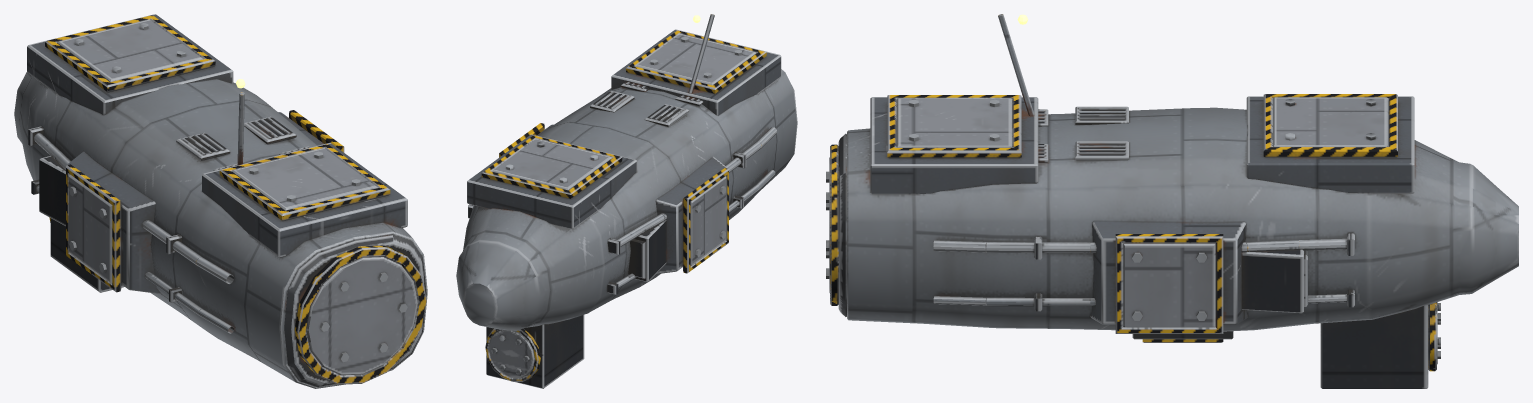
File: casco_explorador_t1.fbx
3 renders of one model, left to right at view 1: azimuth 30°, elevation 25°; view 2: azimuth 150°, elevation 25°; view 3: azimuth 270°, elevation 25°, orthographic. The views are drawn at different scales.
Parts seen in each view (by area): view 1: casco_explorador_t1; view 2: casco_explorador_t1; view 3: casco_explorador_t1.
Part boxes in pixels (x1,y1,x2,y2): casco_explorador_t1: (14, 14, 427, 388); casco_explorador_t1: (456, 14, 797, 388); casco_explorador_t1: (826, 14, 1518, 388).
Bounding box in the file's own units: 4.38 × 5.57 × 10.31.
